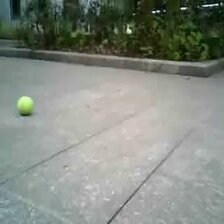tennis: (18, 97, 33, 114)
